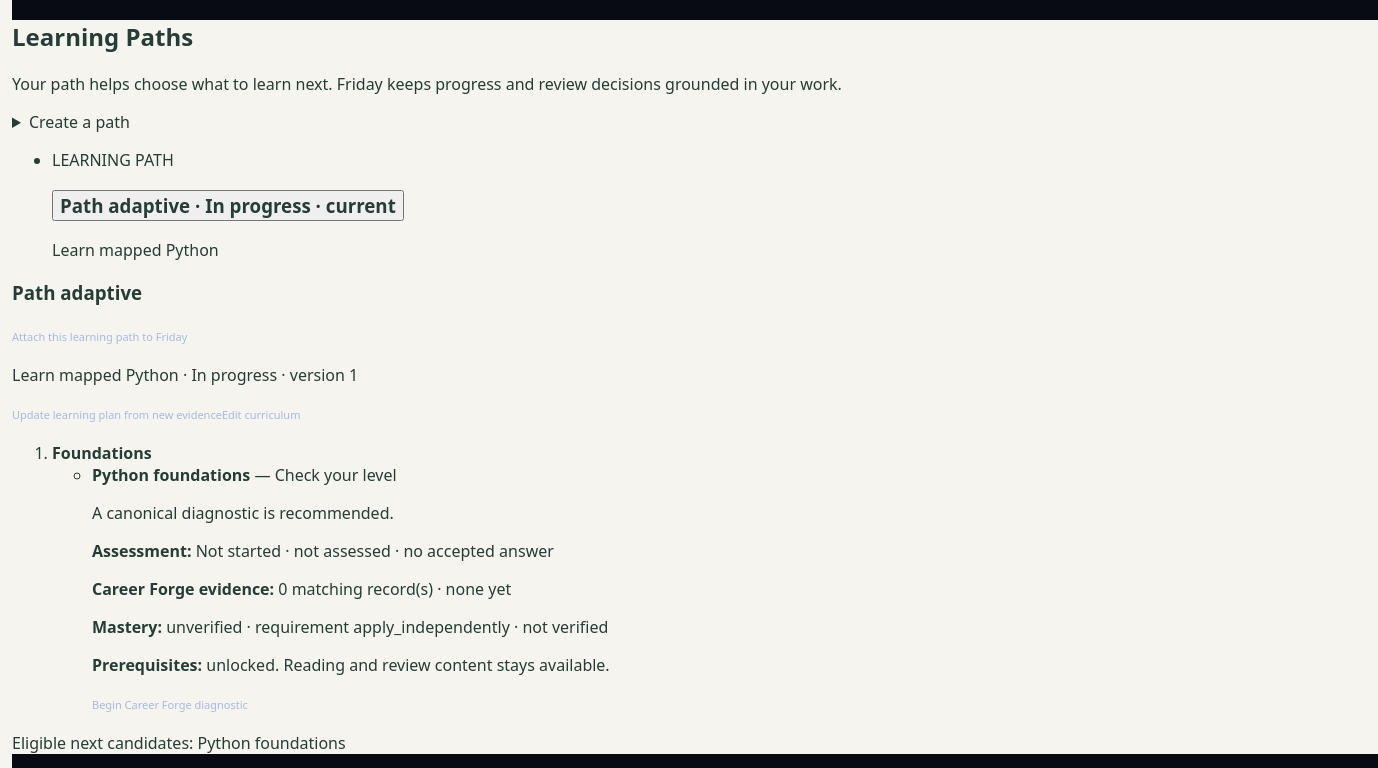
Test case: Learn Dynamic Learning Paths integration › shows an evidence-driven replan action and the server-authored reason
Click the button "Update learning plan from new evidence": (117, 414) [12,403,222,426]
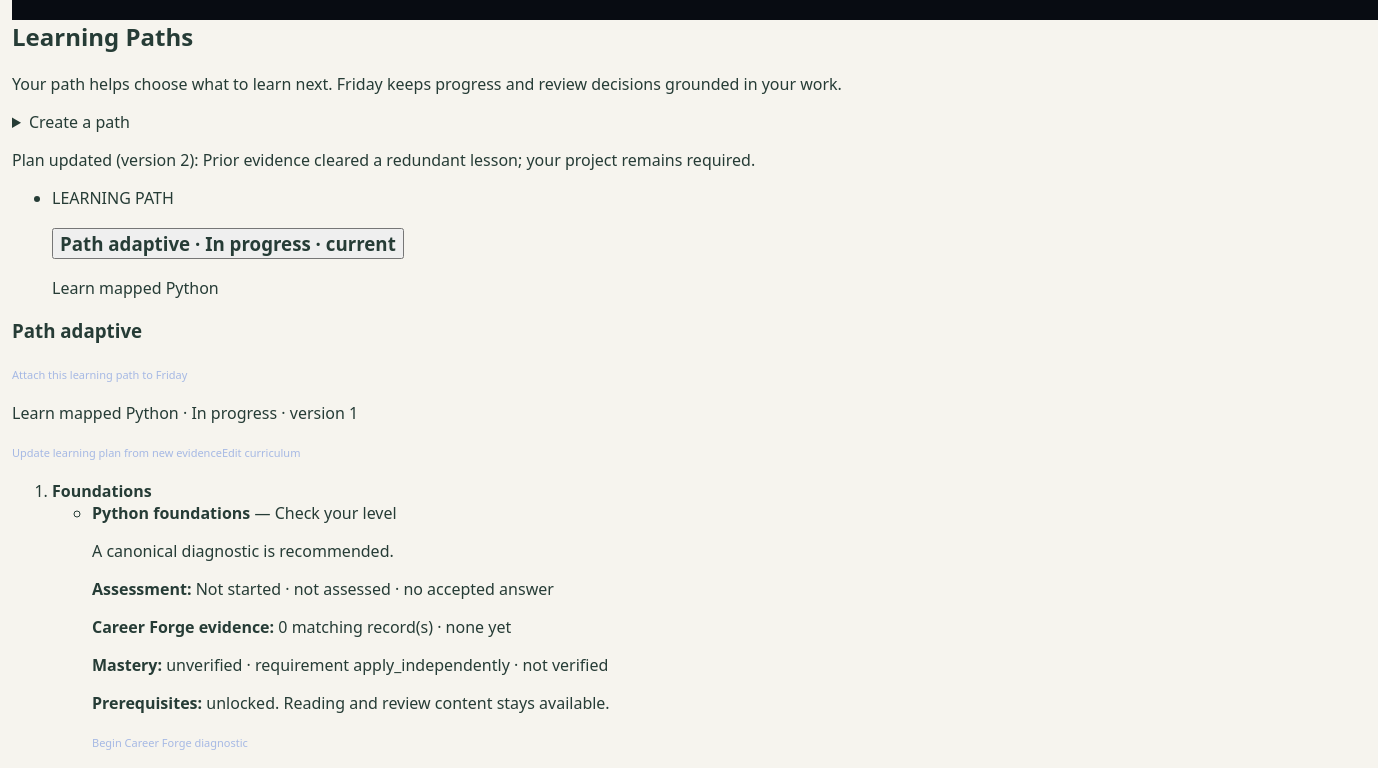
Expected: the text "Prior evidence cleared a redundant lesson; your project remains required." is shown, [12,149,755,171]
